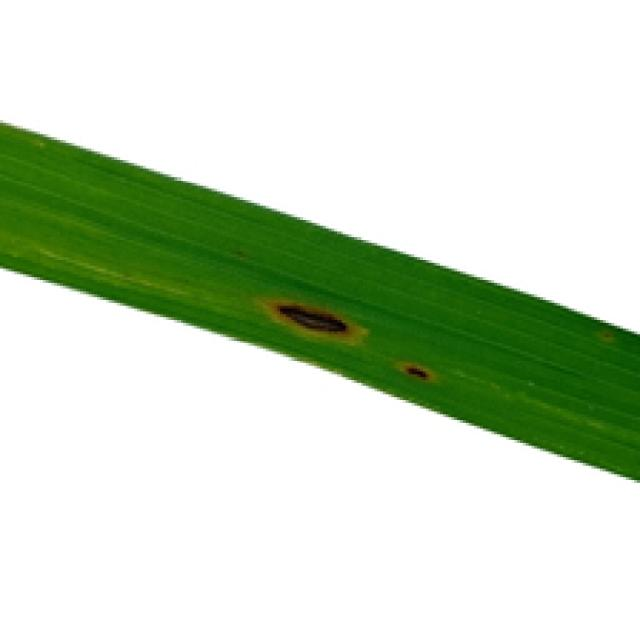Rice___Rice_Blast: (0, 114, 637, 484)
